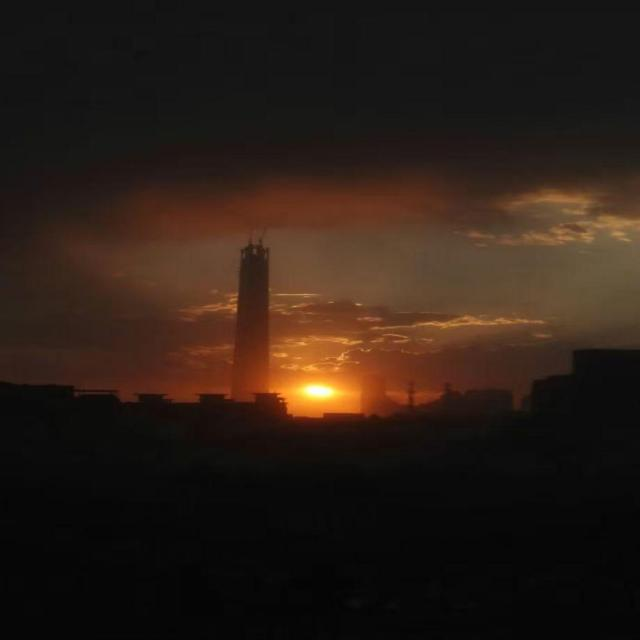other: (280, 369, 382, 410)
